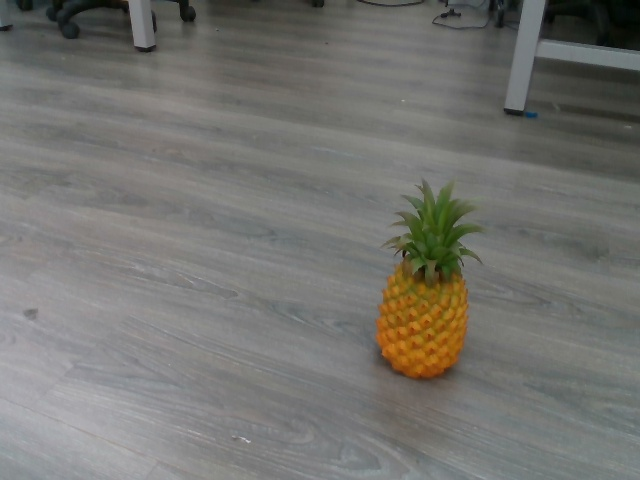pineapple: (376, 175, 486, 378)
